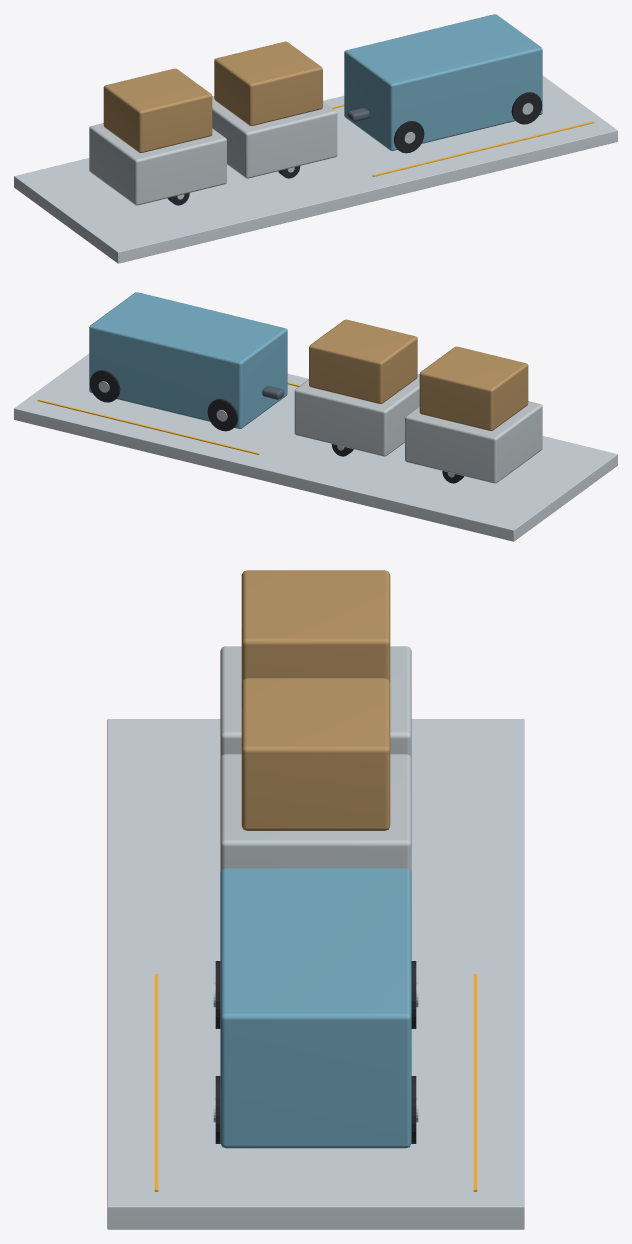
The picture shows the model from 3 angles, top to bottom: view 1: azimuth 30°, elevation 25°; view 2: azimuth 150°, elevation 25°; view 3: azimuth 270°, elevation 25°; orthographic projection. The views are drawn at different scales.
Parts seen in each view (by area): view 1: Ground plane, Tow tractor chassis, Illustrative tugger cart.001, Cart load.001, Cart load, Illustrative tugger cart, Driven wheel / tyre.002, Driven wheel / tyre, Concept clearance guide; view 2: Ground plane, Tow tractor chassis, Illustrative tugger cart.001, Cart load.001, Cart load, Illustrative tugger cart, Driven wheel / tyre.003, Driven wheel / tyre.001, Concept clearance guide.001; view 3: Ground plane, Tow tractor chassis, Cart load, Cart load.001, Illustrative tugger cart, Illustrative tugger cart.001, Concept clearance guide, Concept clearance guide.001.
Part boxes in pixels (x1,y1,x2,y2): Ground plane: [14, 75, 617, 263]; Tow tractor chassis: [344, 14, 542, 150]; Illustrative tugger cart.001: [89, 123, 226, 205]; Cart load.001: [103, 68, 212, 152]; Cart load: [214, 41, 322, 125]; Illustrative tugger cart: [212, 96, 337, 178]; Driven wheel / tyre.002: [511, 92, 542, 124]; Driven wheel / tyre: [393, 121, 424, 153]; Concept clearance guide: [372, 121, 594, 176]; Ground plane: [14, 353, 617, 541]; Tow tractor chassis: [89, 292, 287, 428]; Illustrative tugger cart.001: [405, 401, 542, 483]; Cart load.001: [419, 346, 528, 430]; Cart load: [309, 319, 417, 403]; Illustrative tugger cart: [294, 374, 419, 456]; Driven wheel / tyre.003: [89, 370, 120, 402]; Driven wheel / tyre.001: [207, 399, 238, 431]; Concept clearance guide.001: [37, 399, 259, 454]; Ground plane: [107, 719, 524, 1229]; Tow tractor chassis: [220, 868, 411, 1148]; Cart load: [241, 678, 390, 830]; Cart load.001: [241, 570, 390, 682]; Illustrative tugger cart: [220, 754, 411, 872]; Illustrative tugger cart.001: [220, 646, 411, 758]; Concept clearance guide: [154, 974, 158, 1191]; Concept clearance guide.001: [473, 974, 477, 1191].
Size of the model in its own units: 5.43 by 1.18 by 1.96.
